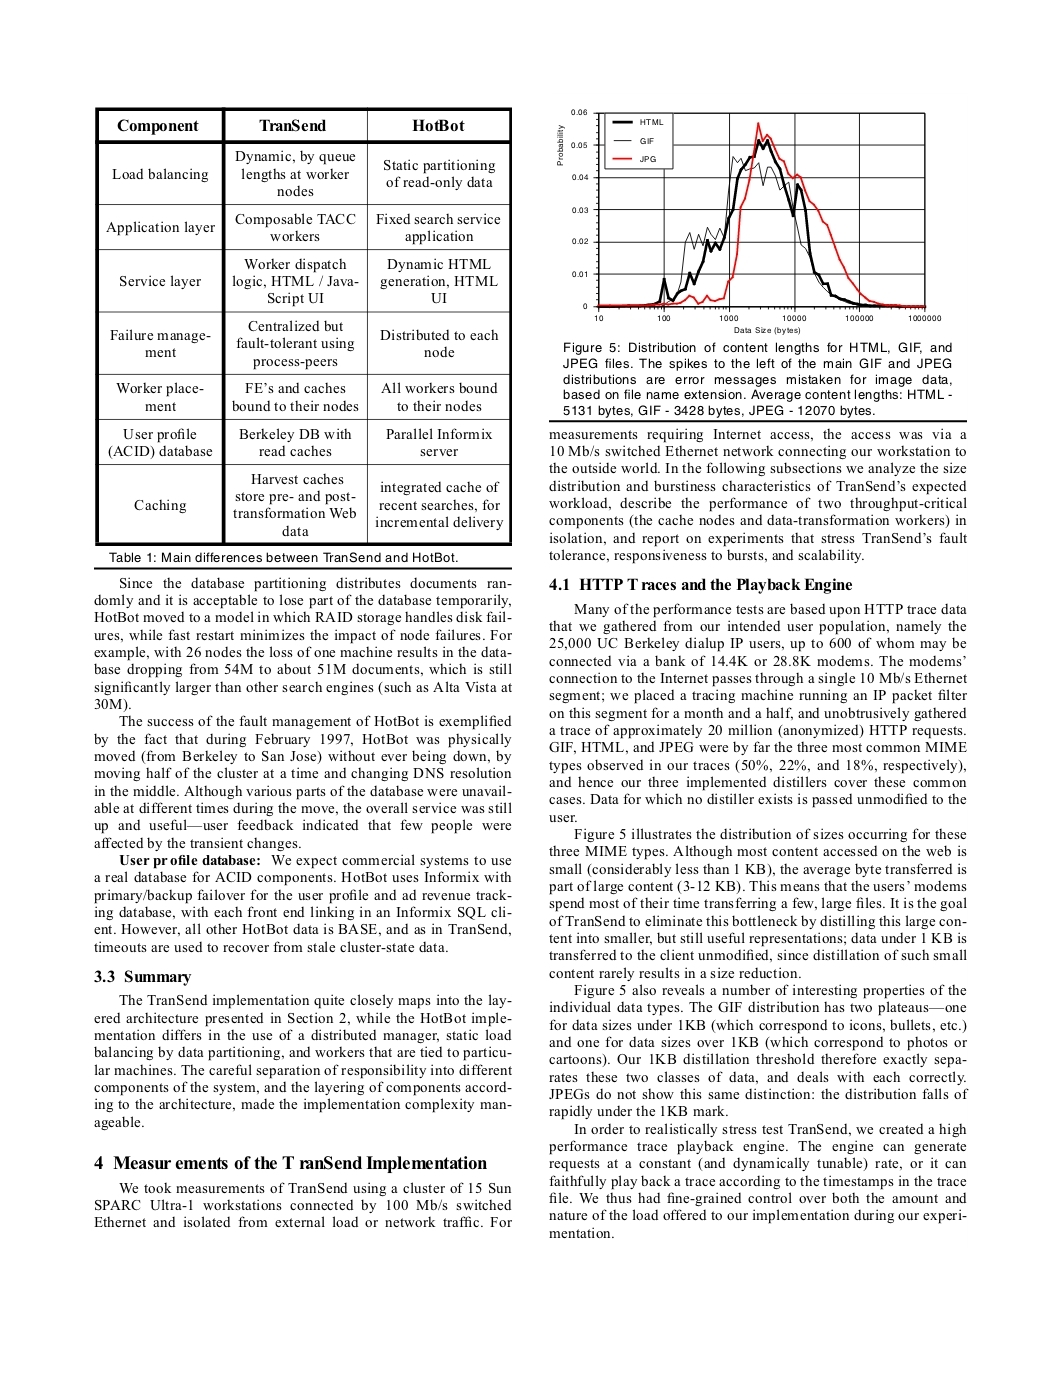Table: (95, 105, 512, 546)
figure: (557, 108, 941, 322), (94, 565, 512, 569), (549, 420, 966, 422)
